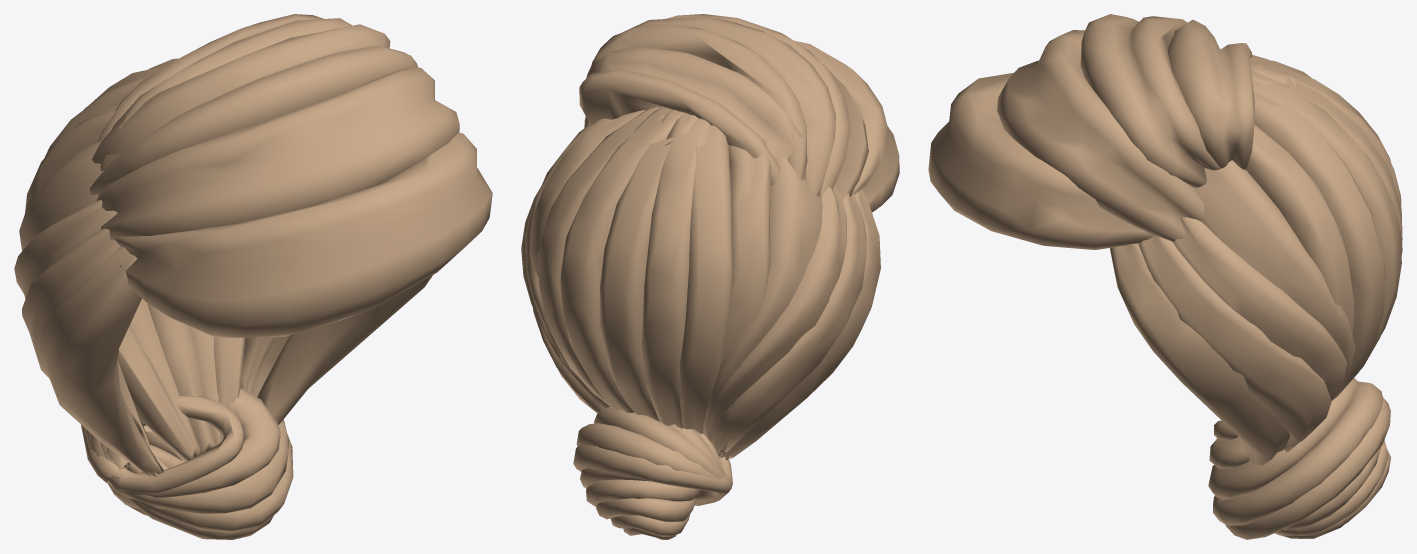
File: hair-6-44b3aabf.glb
3 renders of one model, left to right at view 1: azimuth 30°, elevation 25°; view 2: azimuth 150°, elevation 25°; view 3: azimuth 270°, elevation 25°, orthographic. The views are drawn at different scales.
Visible parts, largest first — view 1: Geo_White_Older_Female_Hair_6.001; view 2: Geo_White_Older_Female_Hair_6.001; view 3: Geo_White_Older_Female_Hair_6.001.
Part boxes in pixels (bbox=[...]): Geo_White_Older_Female_Hair_6.001: bbox=[14, 14, 492, 539]; Geo_White_Older_Female_Hair_6.001: bbox=[521, 14, 899, 539]; Geo_White_Older_Female_Hair_6.001: bbox=[928, 14, 1402, 539].
Bounding box in the file's own units: 1.59 × 2.16 × 1.86.
